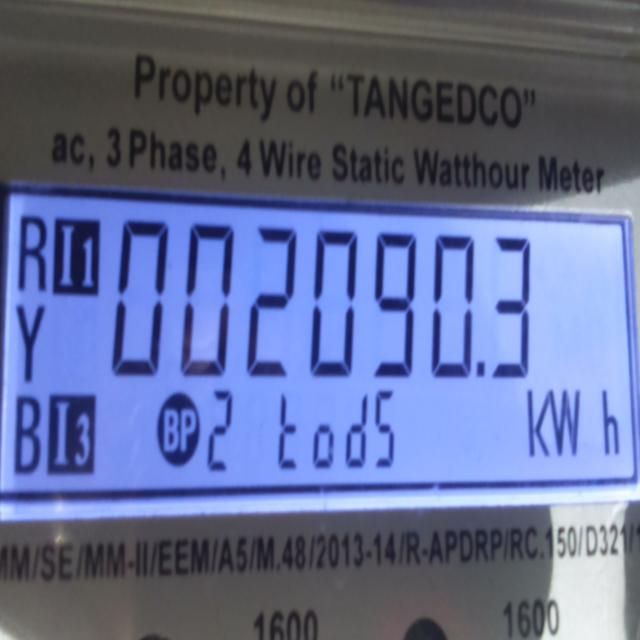.: (477, 349, 488, 389)
0: (101, 210, 169, 389), (181, 217, 240, 386), (304, 224, 364, 380), (427, 228, 478, 382)
2: (248, 220, 298, 390), (200, 383, 241, 475)
3: (488, 228, 542, 387)
9: (369, 227, 419, 389)
